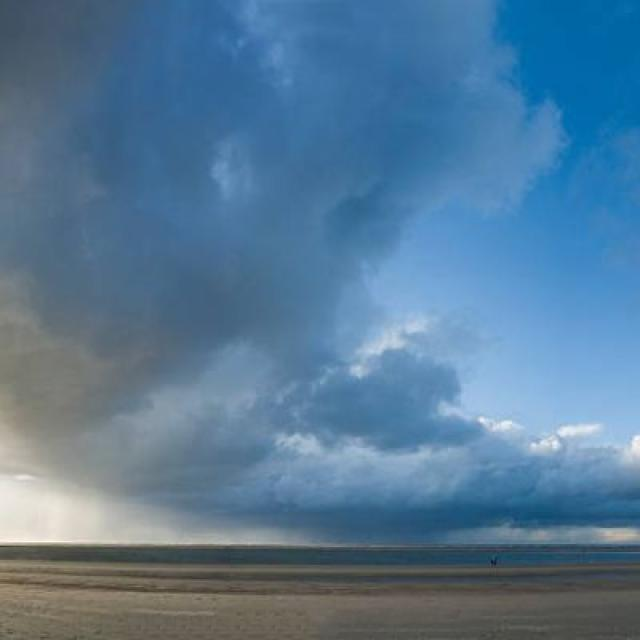Ns: (1, 29, 640, 530)
